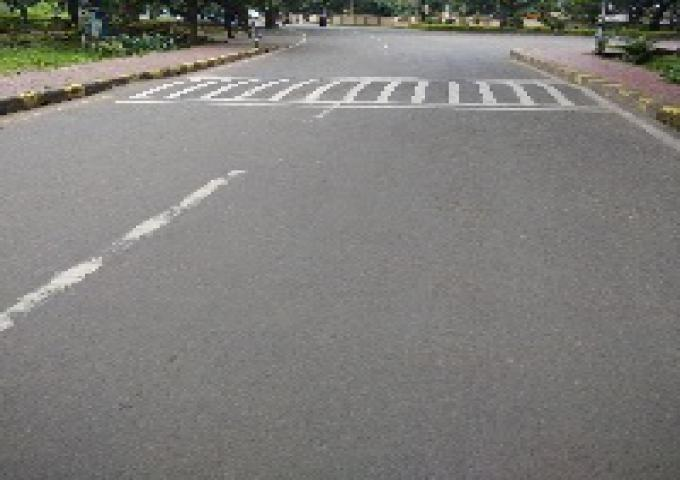speedbreaker: (123, 66, 599, 114)
